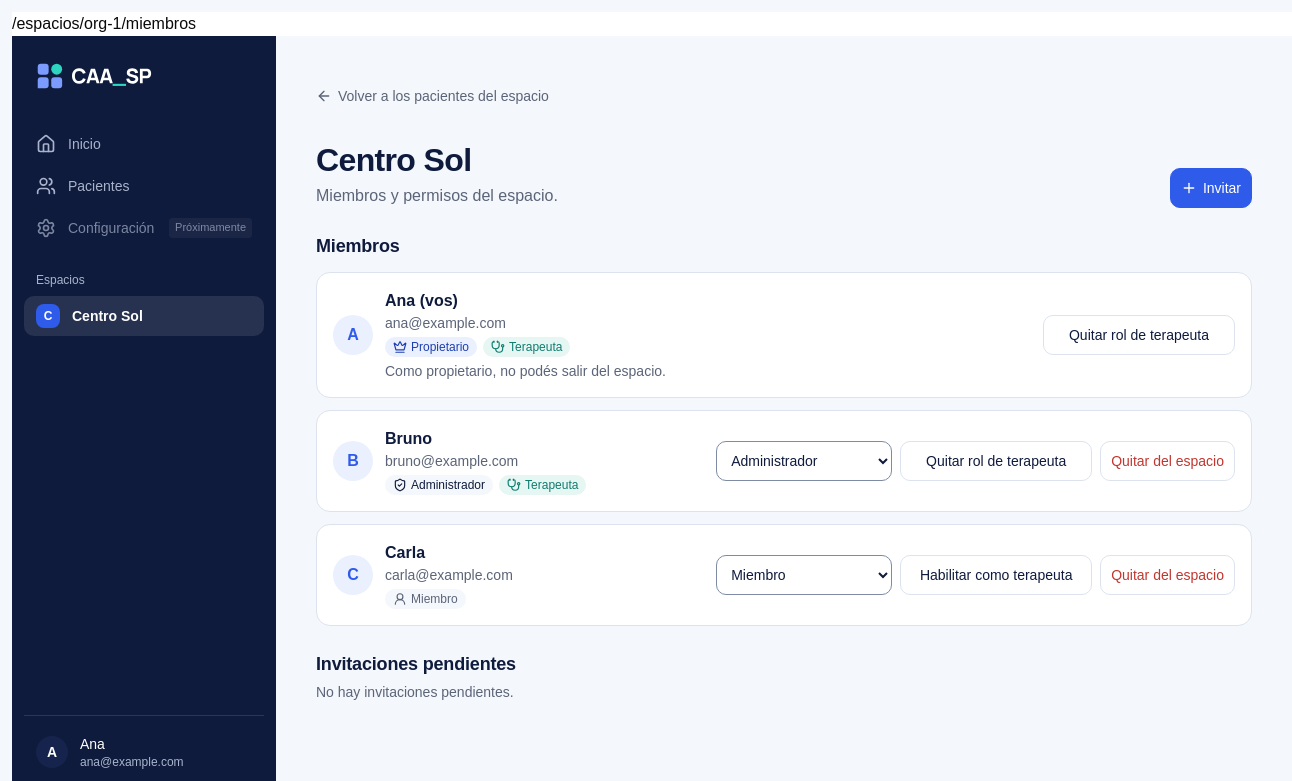
it: OrganizationMembersPage › shows the backend refusal 403 on the member row
The width and height of the screenshot is (1292, 781).
Click the button "Quitar del espacio" in the row of "carla@example.com": (1168, 575) [1100, 555, 1235, 595]
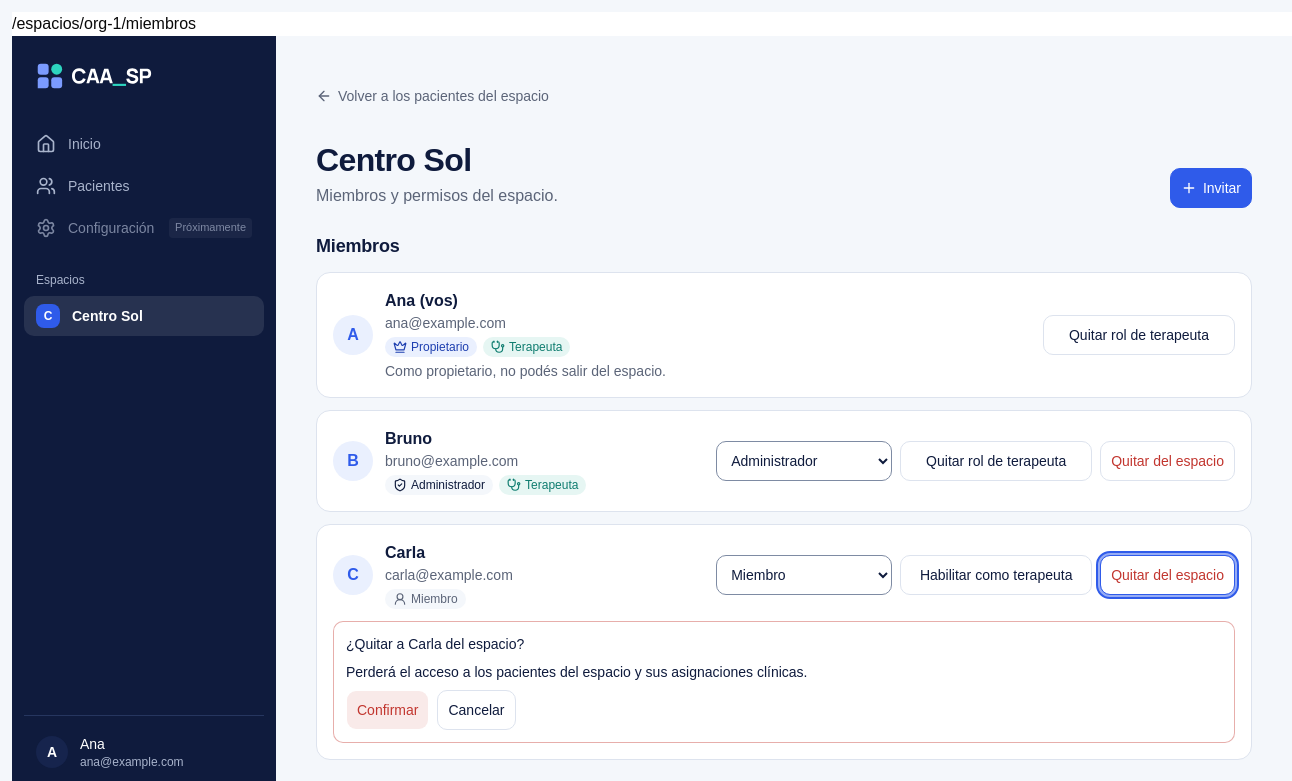
Click the button "Confirmar": (388, 710) [346, 690, 430, 730]
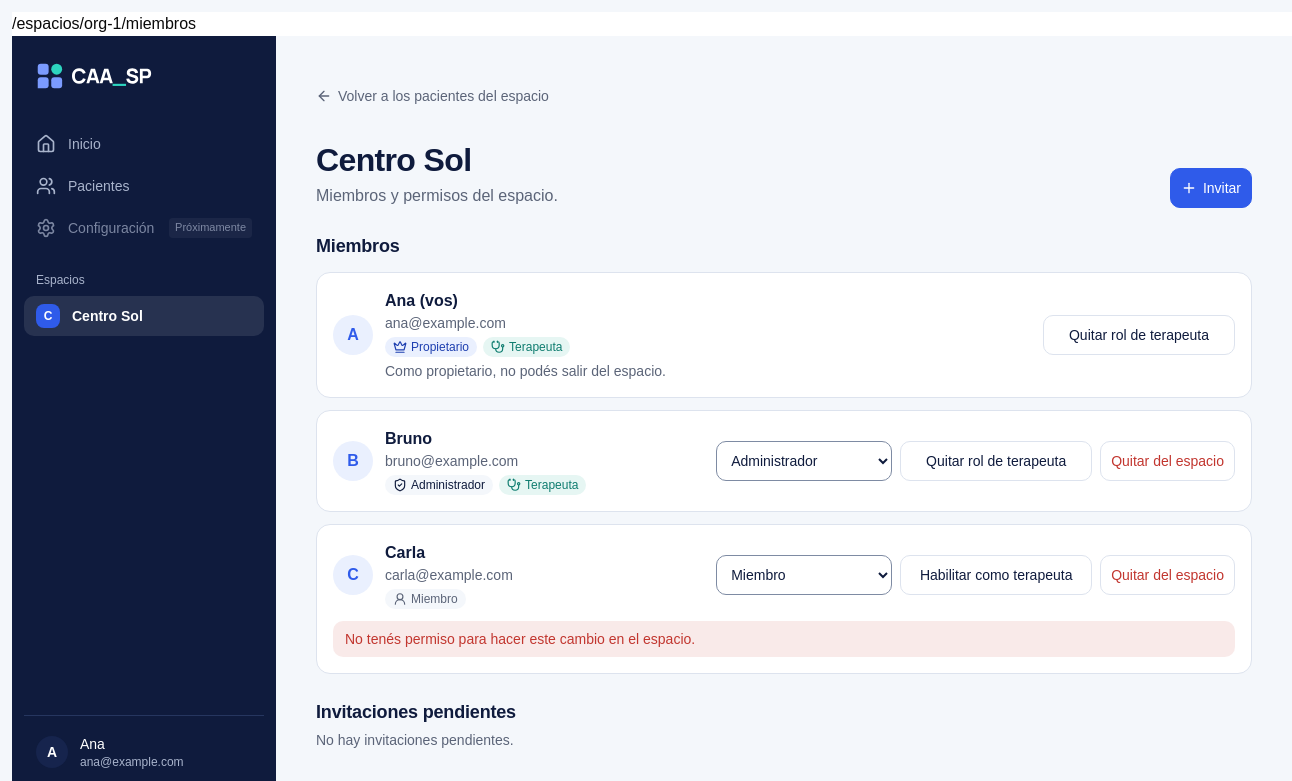
Expected: the message reads "No tenés permiso para hacer este cambio en el espacio.", [345, 631, 695, 647]
